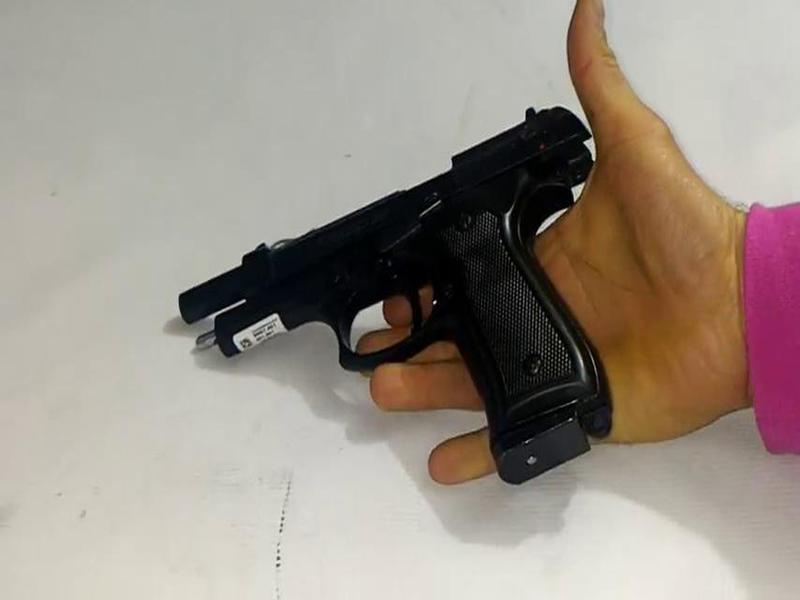Pistola: (163, 82, 648, 518)
